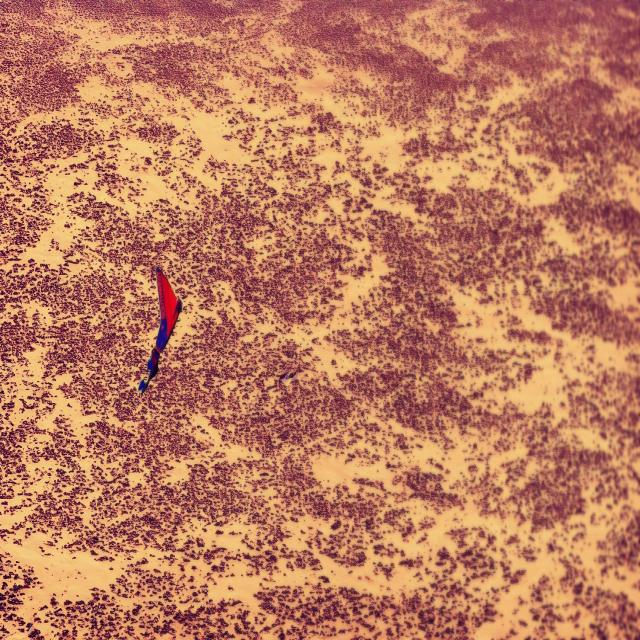airplane: (138, 266, 182, 394)
